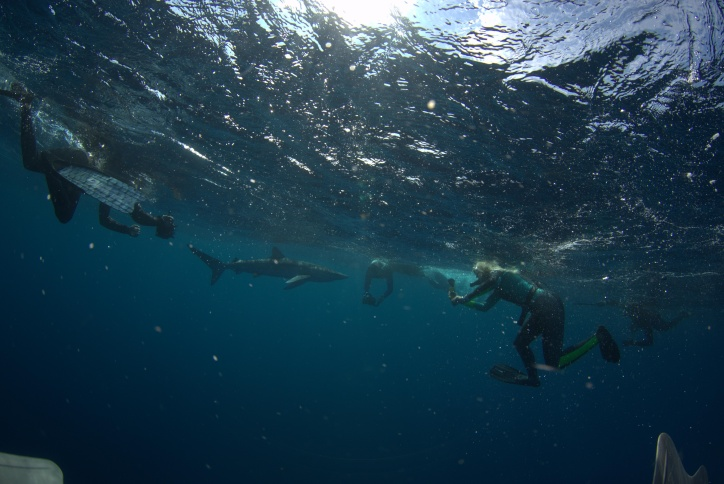Azul: (179, 232, 357, 298)
